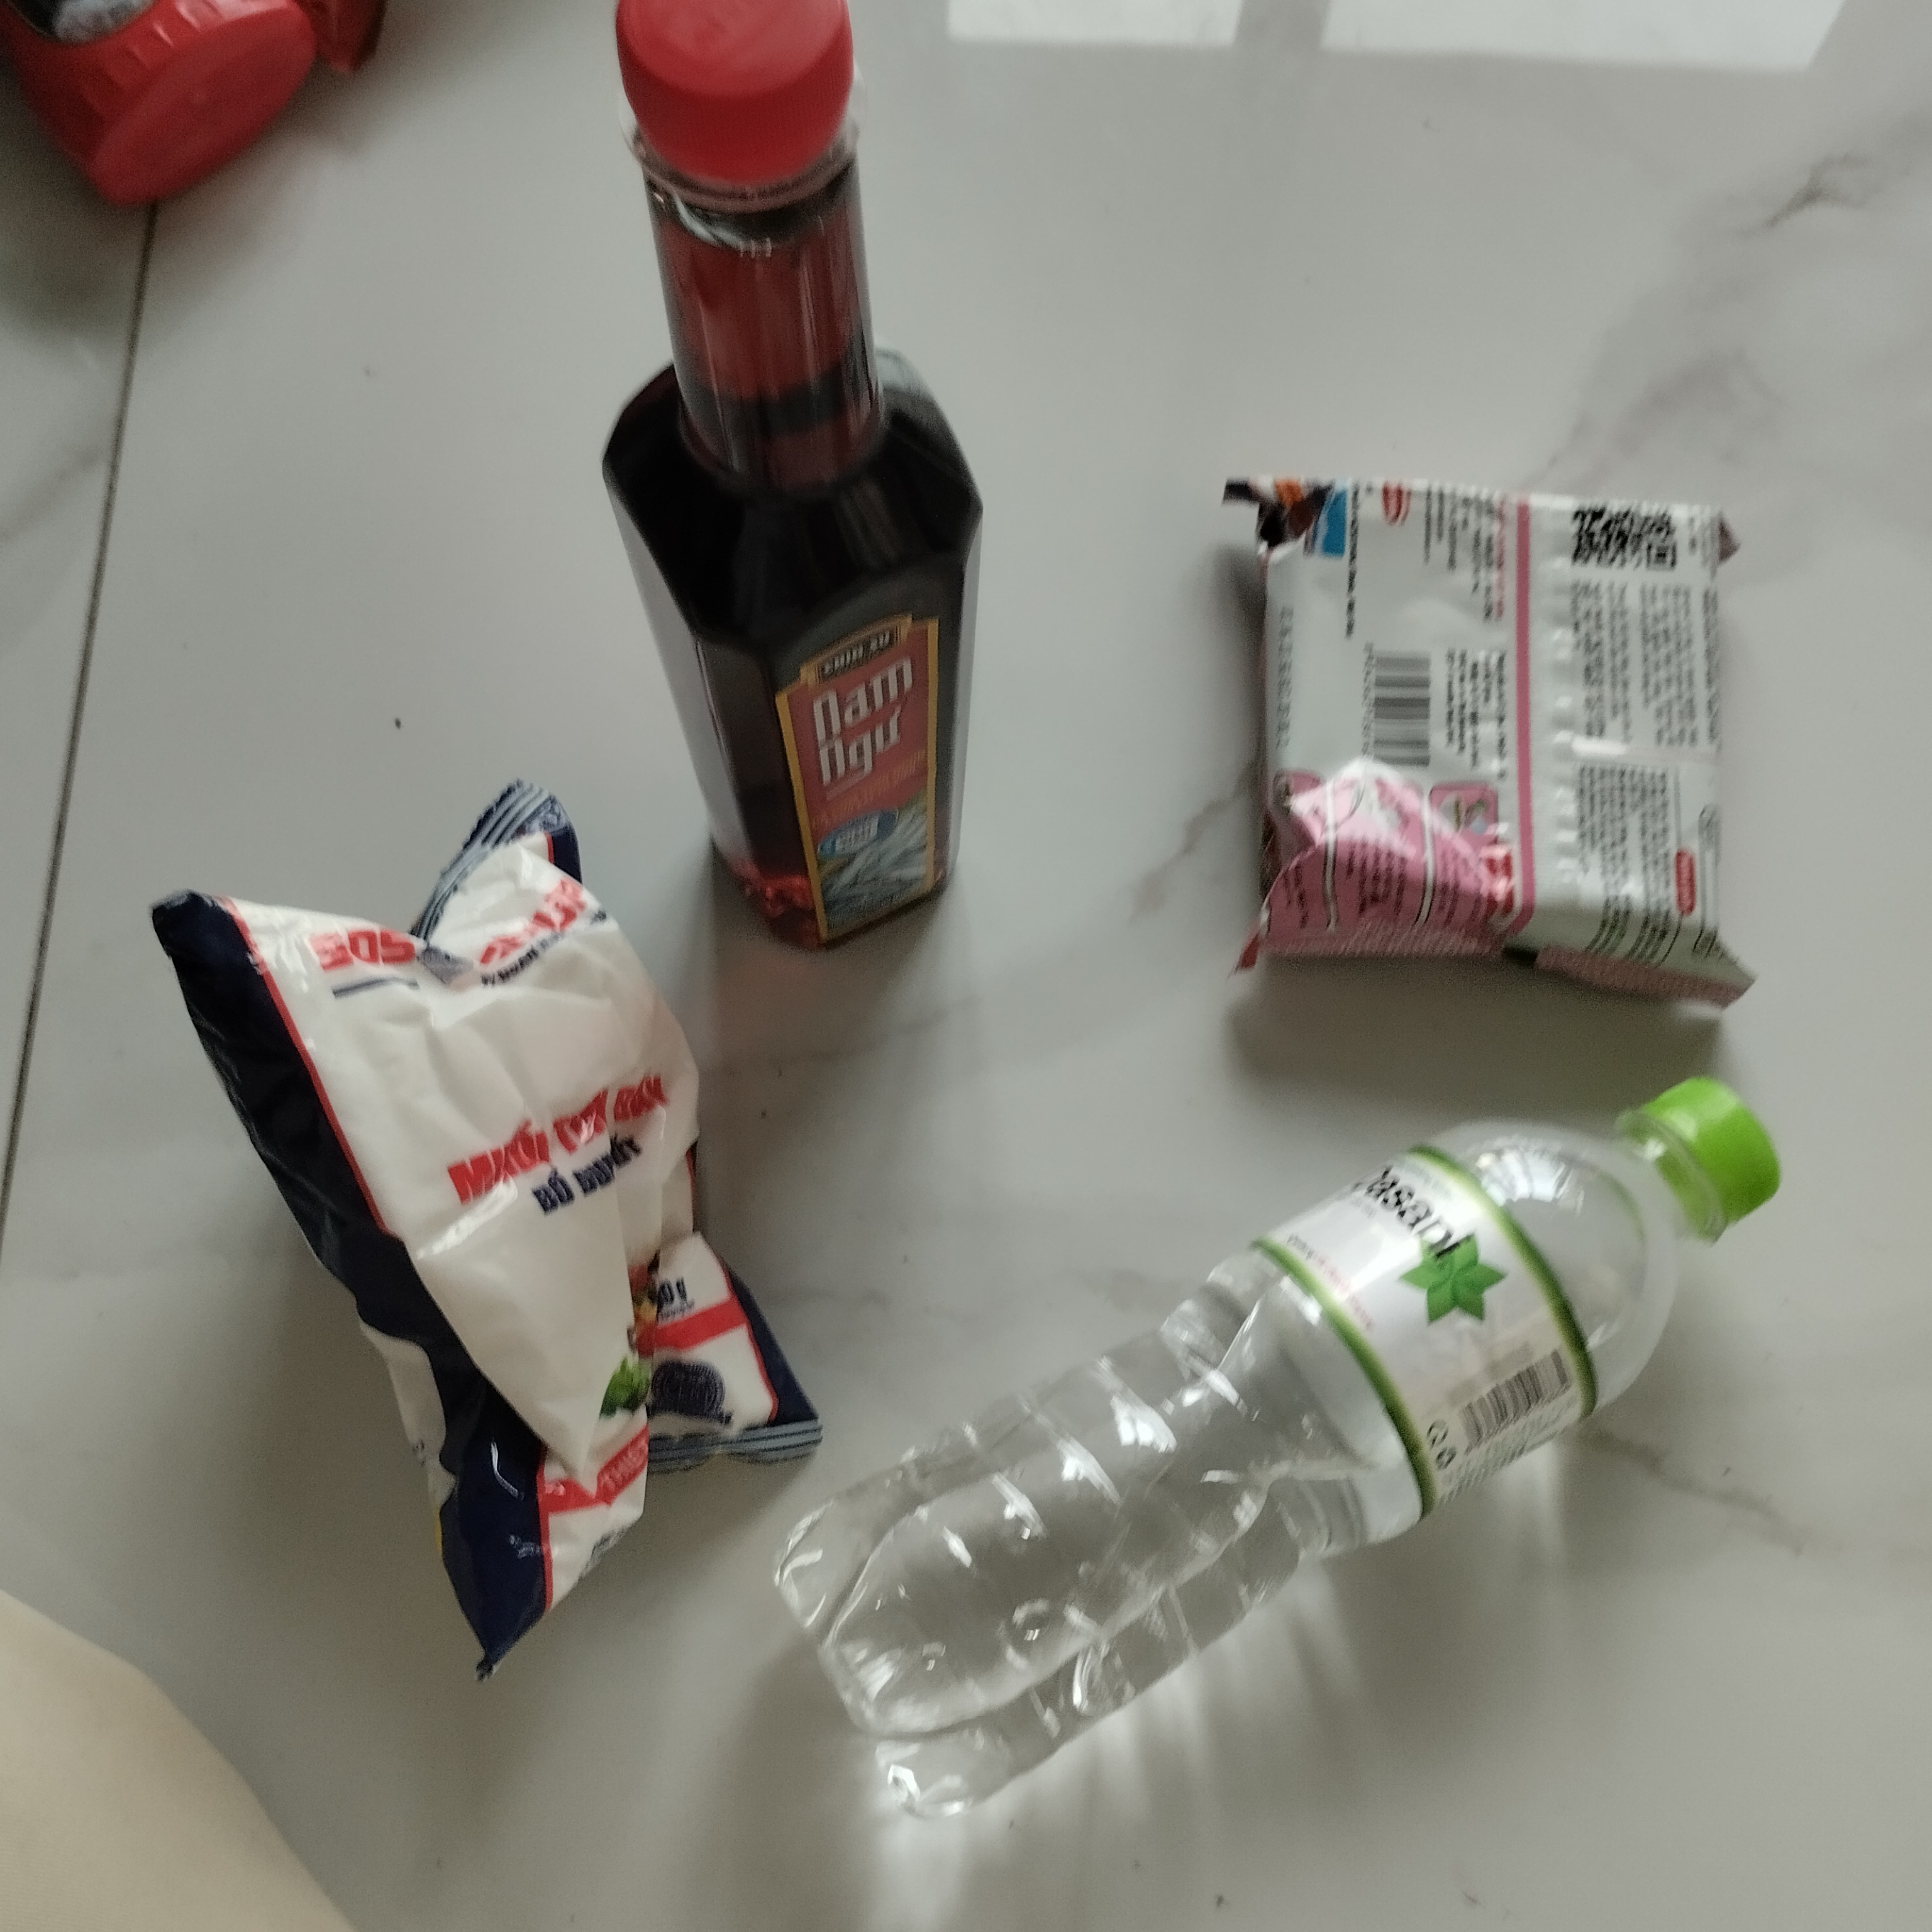Dasani: (764, 1070, 1783, 1826)
Haohao: (1214, 448, 1771, 1049)
Namngu: (591, 11, 1005, 959)
Salt: (127, 766, 824, 1675)
